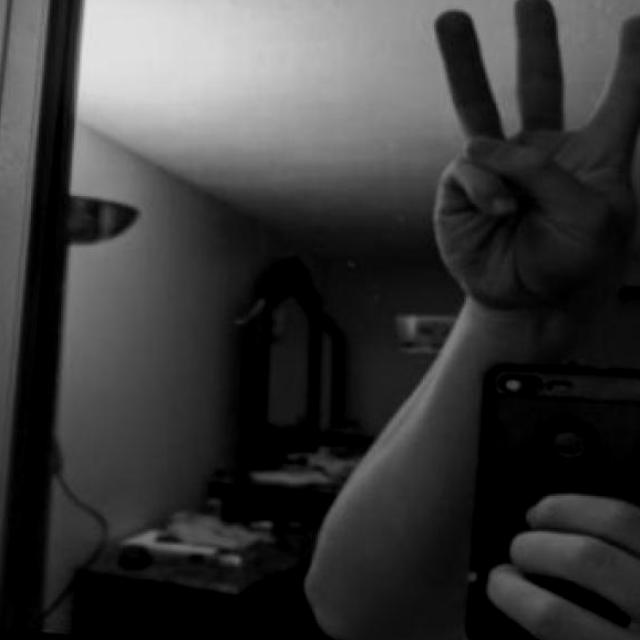W: (375, 0, 640, 337)
